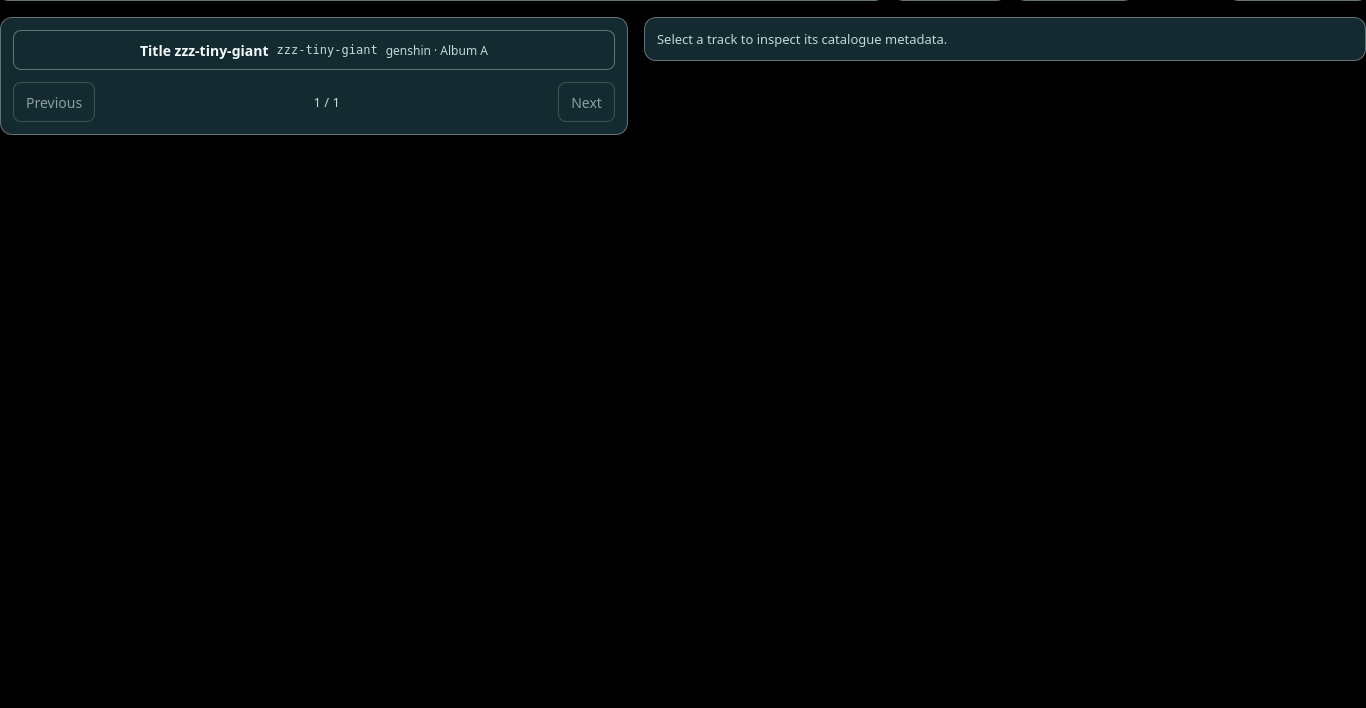
it: CatalogueTrackBrowser › saves only the changed fields against the loaded revision
The image size is (1366, 708).
Click the button "Title zzz-tiny-giant zzz-tiny-giant genshin · Album A": (314, 50) [13,30,615,70]
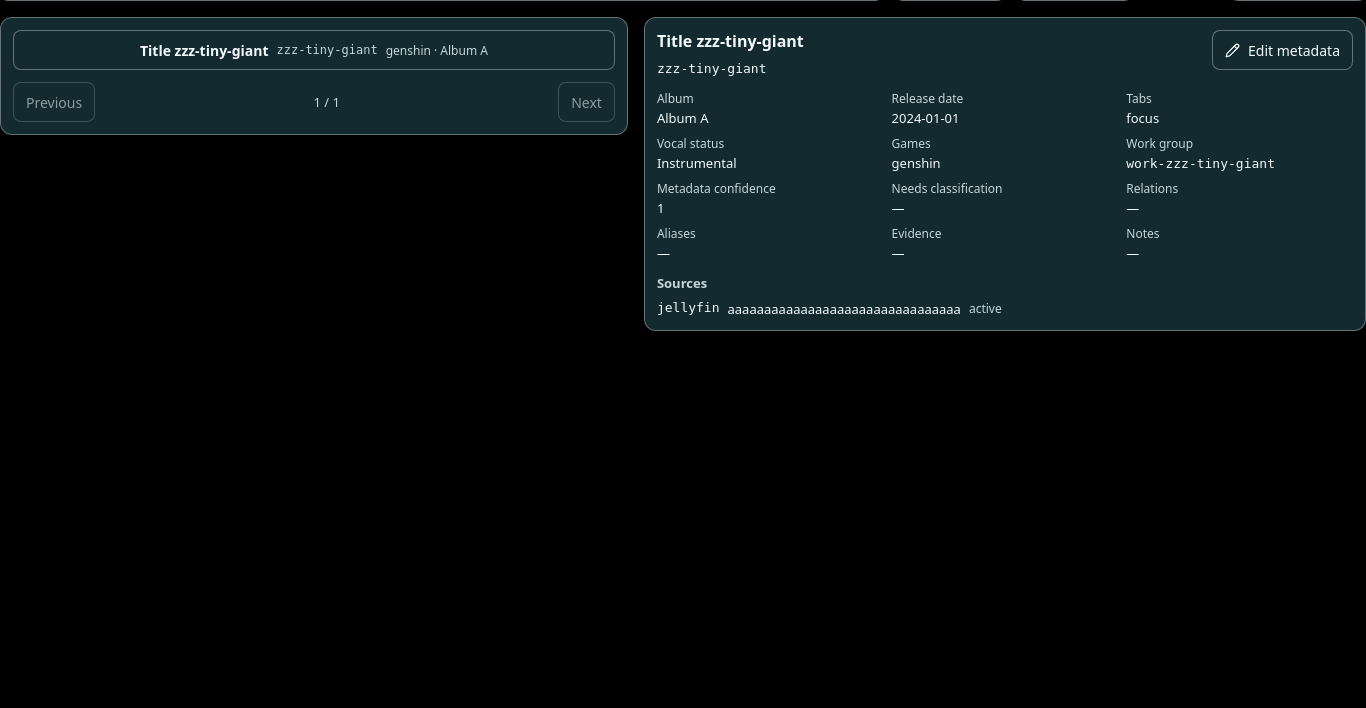
Click the button "Edit metadata": (1282, 50) [1212,30,1353,70]
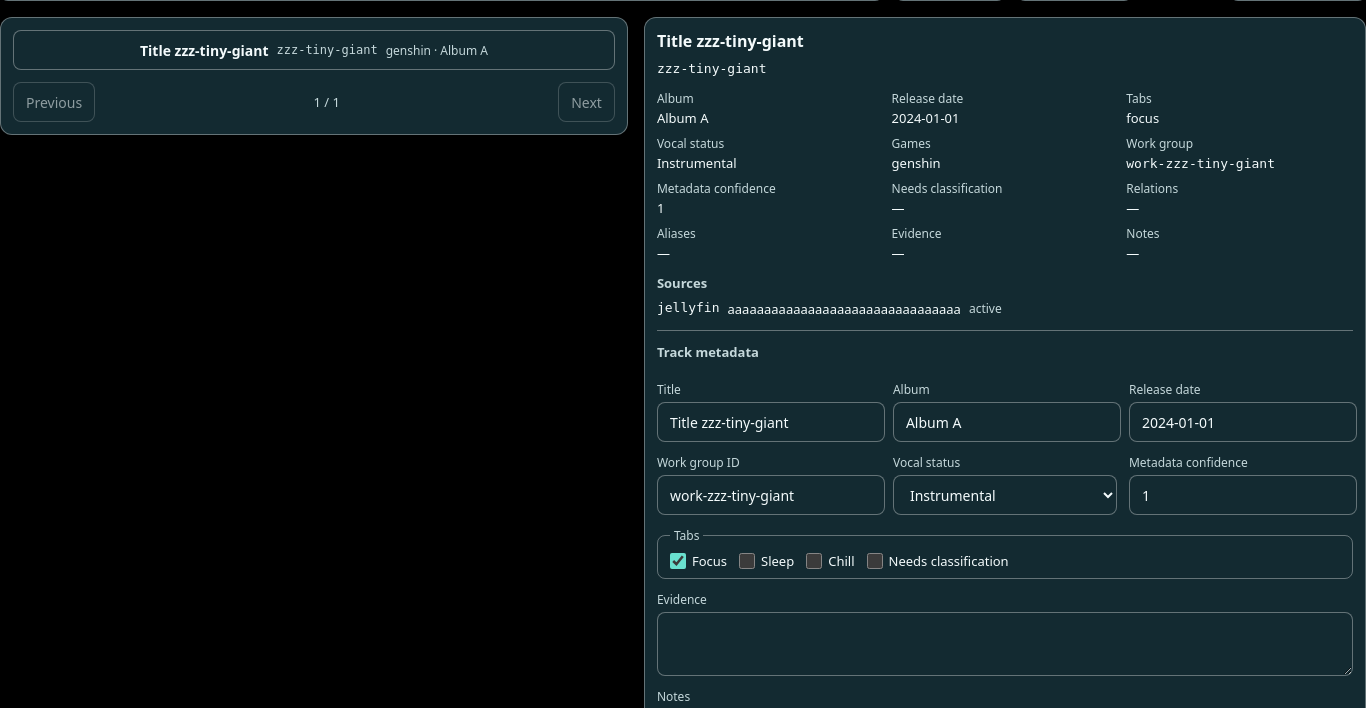
Replace the text in the field labelled "Title" with "Renamed": (771, 422) [657,402,885,442]
(page scrolled)
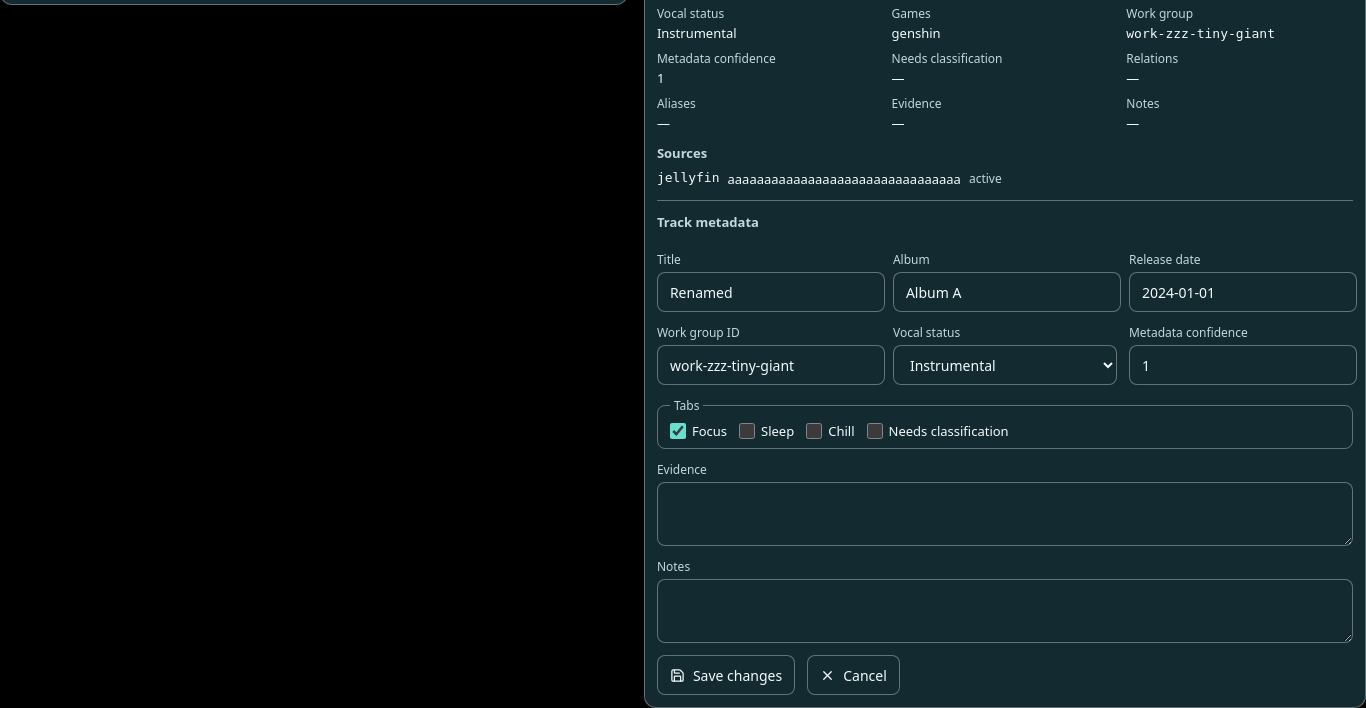
Submit the form, box [657,200,1353,695]
(page scrolled)
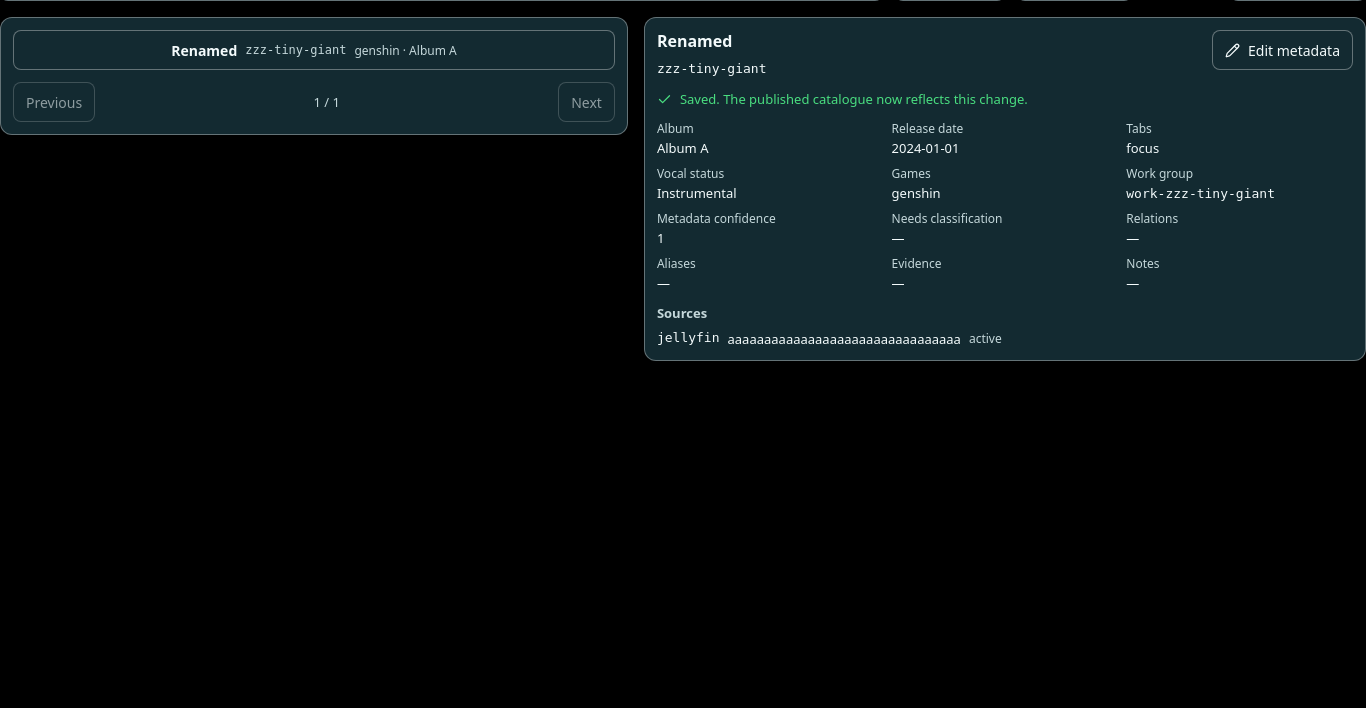
Expected: the message "Saved. The published catalogue now reflects this change." is shown, [657,90,1028,108]
